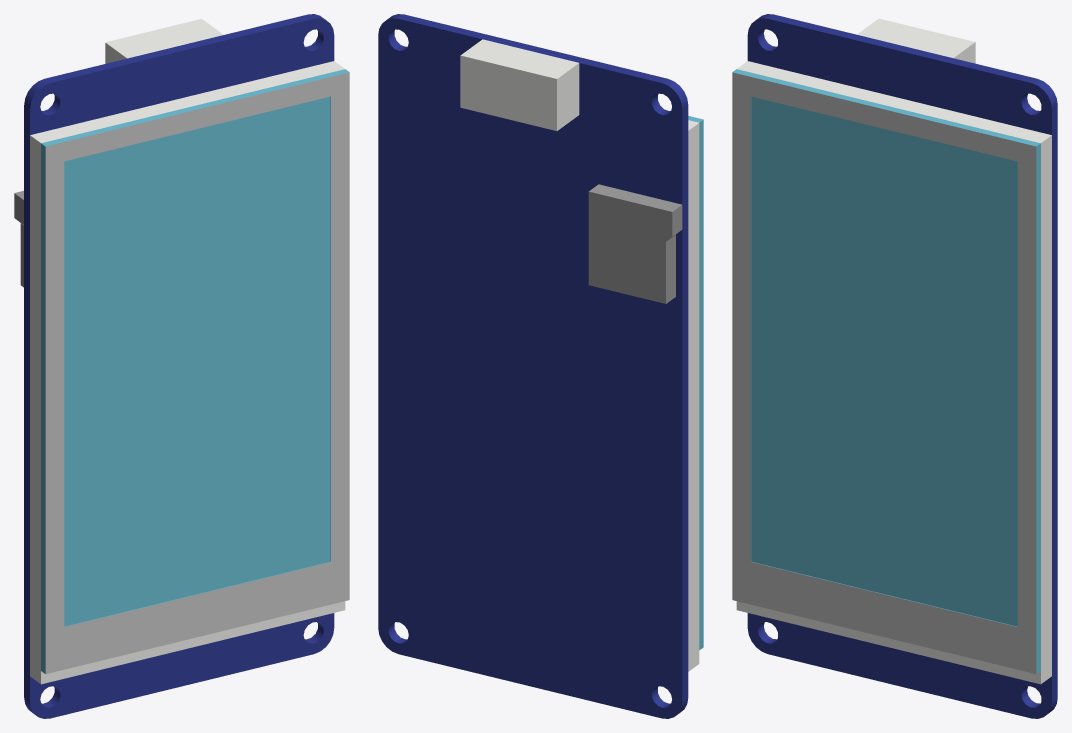
File: nextion 3.2 v1.obj
3 views of the same model, side by side, from view 1: azimuth 30°, elevation 25°; view 2: azimuth 150°, elevation 25°; view 3: azimuth 330°, elevation 25° (orthographic).
Visible parts, largest first — view 1: Solid3, Solid1, Solid2, Solid4, Solid5; view 2: Solid1, Solid5, Solid4, Solid2, Solid3; view 3: Solid3, Solid1, Solid2, Solid4.
Part boxes in pixels (x1=…): Solid3: x1=41, y1=69, x2=349, y2=674; Solid1: x1=24, y1=14, x2=334, y2=718; Solid2: x1=30, y1=61, x2=345, y2=684; Solid4: x1=105, y1=19, x2=223, y2=63; Solid5: x1=14, y1=190, x2=23, y2=287; Solid1: x1=378, y1=14, x2=688, y2=718; Solid5: x1=588, y1=184, x2=682, y2=303; Solid4: x1=460, y1=39, x2=579, y2=130; Solid2: x1=688, y1=120, x2=699, y2=671; Solid3: x1=688, y1=116, x2=703, y2=650; Solid3: x1=732, y1=69, x2=1040, y2=674; Solid1: x1=747, y1=14, x2=1057, y2=718; Solid2: x1=736, y1=61, x2=1051, y2=684; Solid4: x1=857, y1=18, x2=975, y2=63.
Size of the model in its own units: 47.6 by 95 by 11.8.
